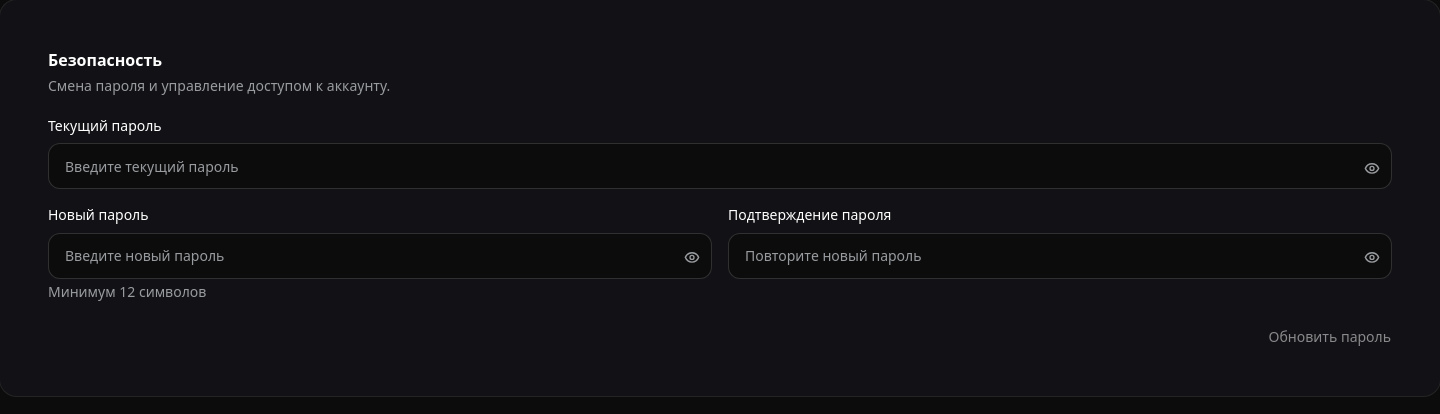
Scenario: ChangePasswordSection › валидирует несовпадение подтверждения пароля
Type "OldPassword123!" into the password field with placeholder "Введите текущий пароль".
click(720, 166); type("OldPassword123!")  # box [48,143,1392,189]
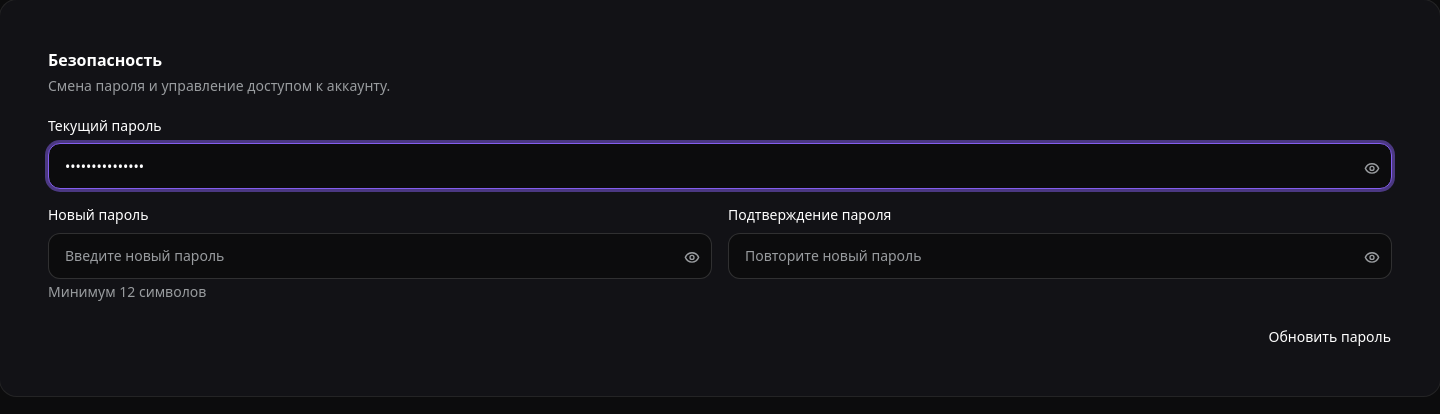
Type "ValidNewPassword123!" into the password field with placeholder "Введите новый пароль".
click(380, 256); type("ValidNewPassword123!")  # box [48,232,712,278]
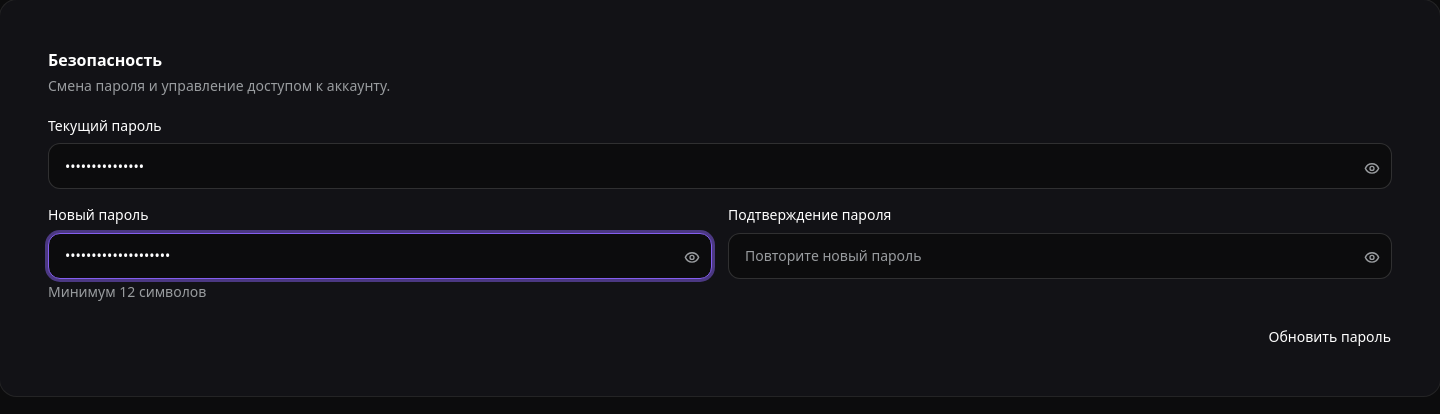
Type "MismatchedPassword123!" into the password field with placeholder "Повторите новый пароль".
click(1060, 256); type("MismatchedPassword123!")  # box [728,232,1392,278]
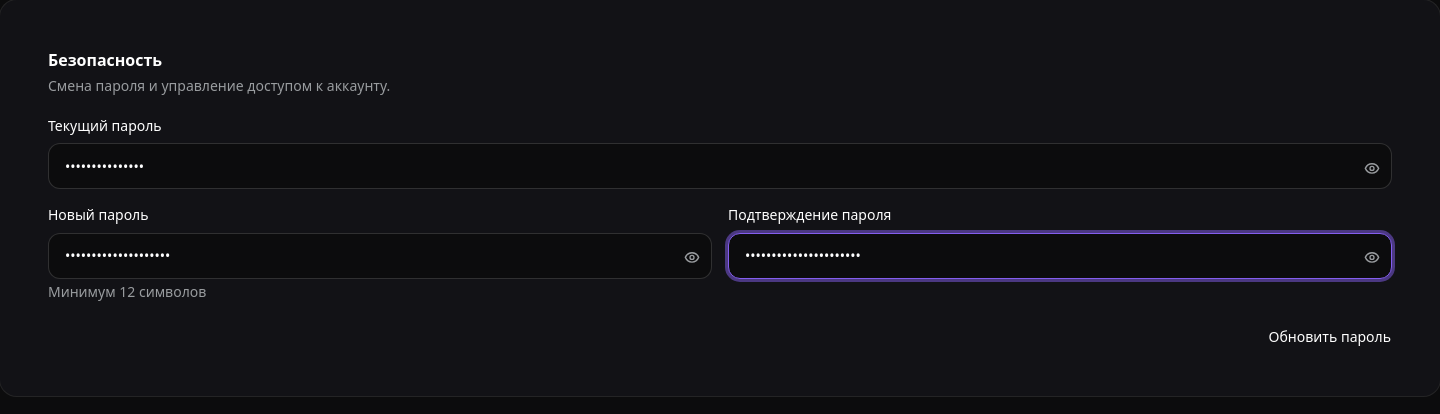
Click the button "Обновить пароль".
click(1330, 336)  # box [1268,326,1392,348]
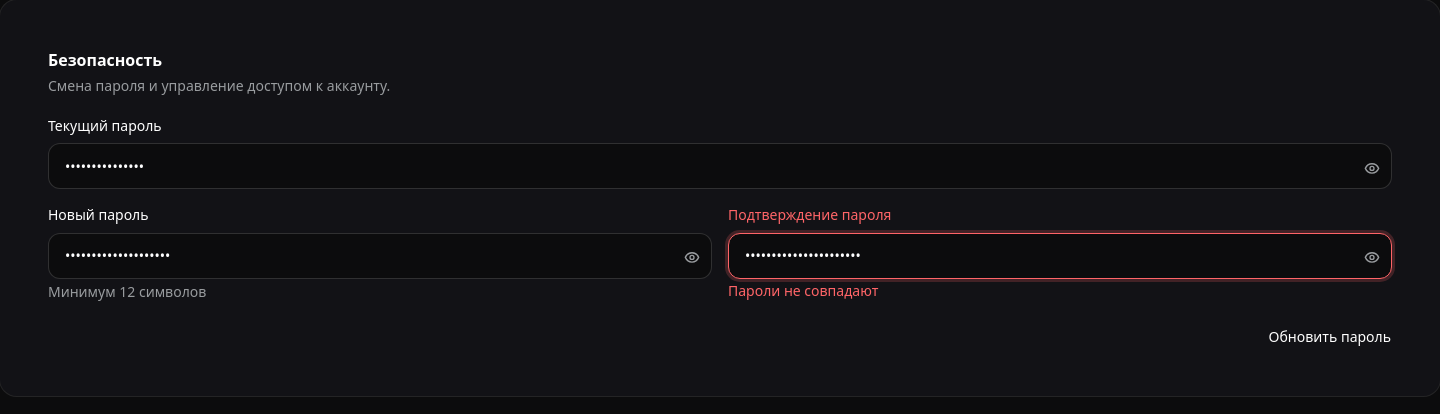
Check: the text "Пароли не совпадают" is shown, box [728,280,878,300]
